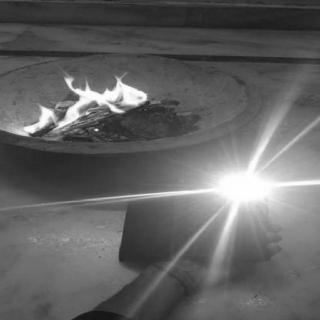Fire: (17, 67, 155, 141)
other: (189, 158, 292, 216)
